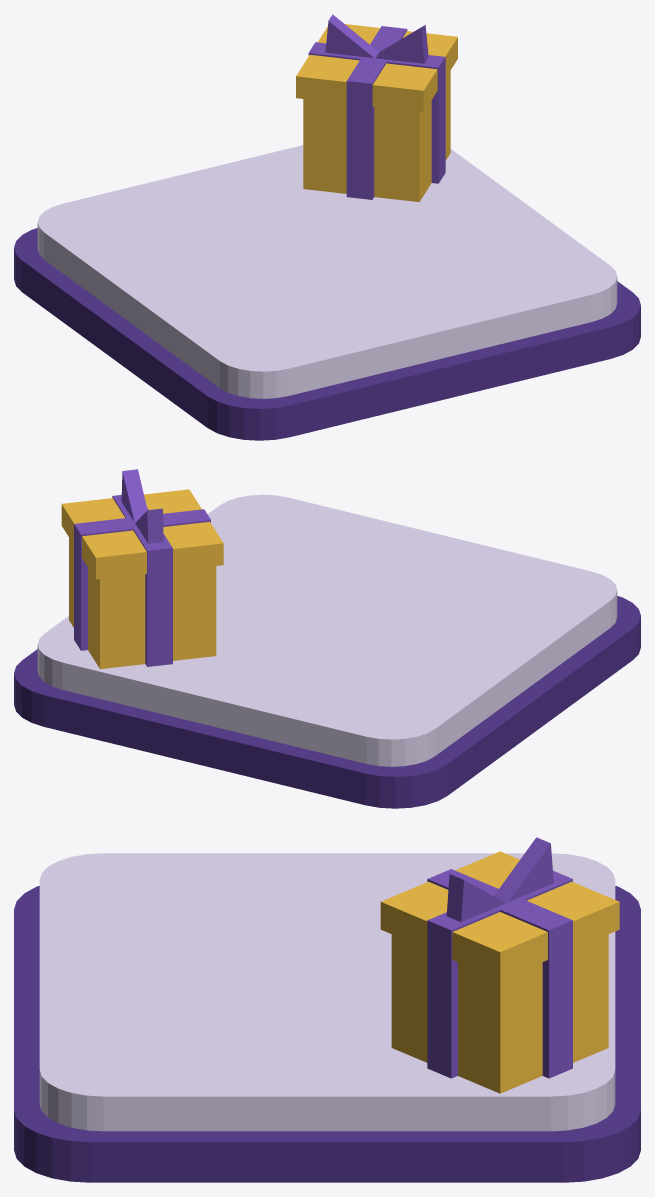
The model's file is tile_chance.glb.
The picture shows the model from 3 angles, top to bottom: view 1: azimuth 30°, elevation 25°; view 2: azimuth 150°, elevation 25°; view 3: azimuth 270°, elevation 25°; orthographic projection. The views are drawn at different scales.
Visible parts, largest first — view 1: base, plinth, prop_gift, prop_lid, prop_ribbon_a, prop_ribbon_b, prop_bow_l, prop_bow_r; view 2: base, plinth, prop_gift, prop_lid, prop_ribbon_b, prop_ribbon_a, prop_bow_r, prop_bow_l; view 3: base, plinth, prop_gift, prop_lid, prop_ribbon_a, prop_ribbon_b, prop_bow_l, prop_bow_r.
Boxes of the visible parts, x1,y1,x2,y2 form: base: [37, 145, 617, 398]; plinth: [14, 228, 640, 440]; prop_gift: [303, 71, 450, 201]; prop_lid: [296, 24, 457, 112]; prop_ribbon_a: [346, 26, 407, 199]; prop_ribbon_b: [308, 42, 445, 183]; prop_bow_l: [325, 14, 378, 57]; prop_bow_r: [376, 25, 428, 63]; base: [37, 494, 617, 766]; plinth: [14, 596, 640, 808]; prop_gift: [69, 538, 216, 669]; prop_lid: [61, 489, 223, 579]; prop_ribbon_b: [112, 495, 172, 666]; prop_ribbon_a: [74, 509, 210, 650]; prop_bow_r: [121, 469, 147, 522]; prop_bow_l: [135, 508, 163, 543]; base: [39, 853, 615, 1131]; plinth: [14, 886, 640, 1182]; prop_gift: [391, 934, 608, 1093]; prop_lid: [380, 851, 619, 979]; prop_ribbon_a: [427, 869, 572, 1078]; prop_ribbon_b: [427, 870, 572, 1078]; prop_bow_l: [494, 837, 553, 902]; prop_bow_r: [446, 874, 506, 922].
Bounding box in the file's own units: 0.98 × 0.4564 × 0.98.
